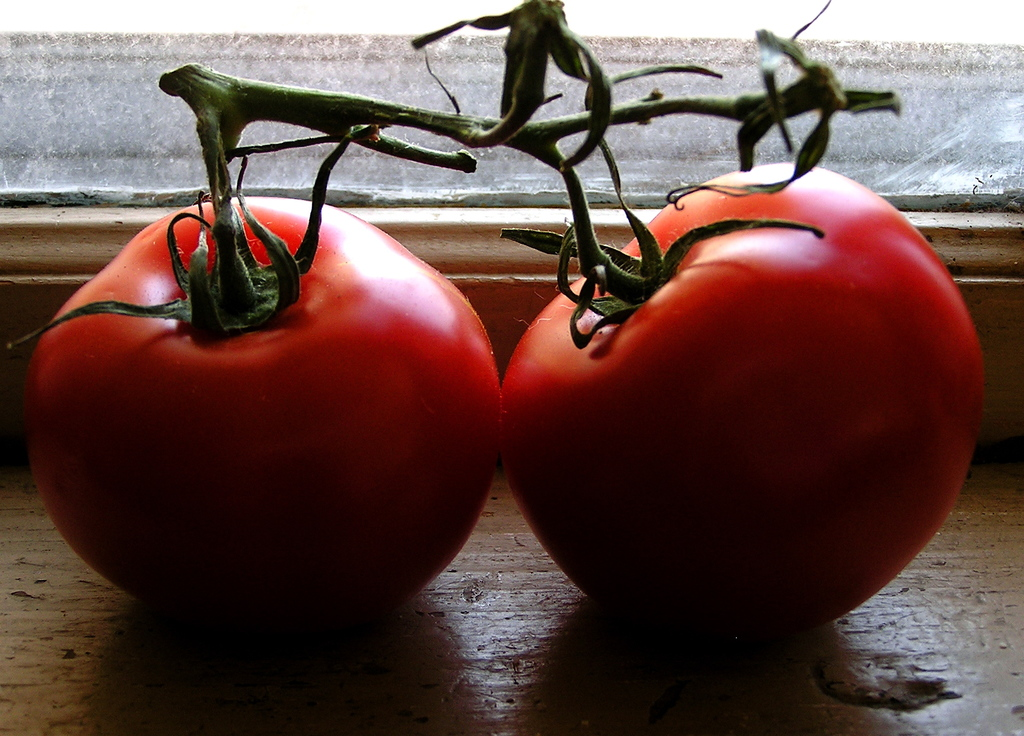Tomato: (499, 151, 979, 639), (37, 172, 506, 626)
